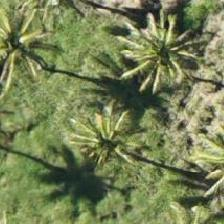coconut_tree: (63, 104, 153, 194), (123, 0, 213, 88)
